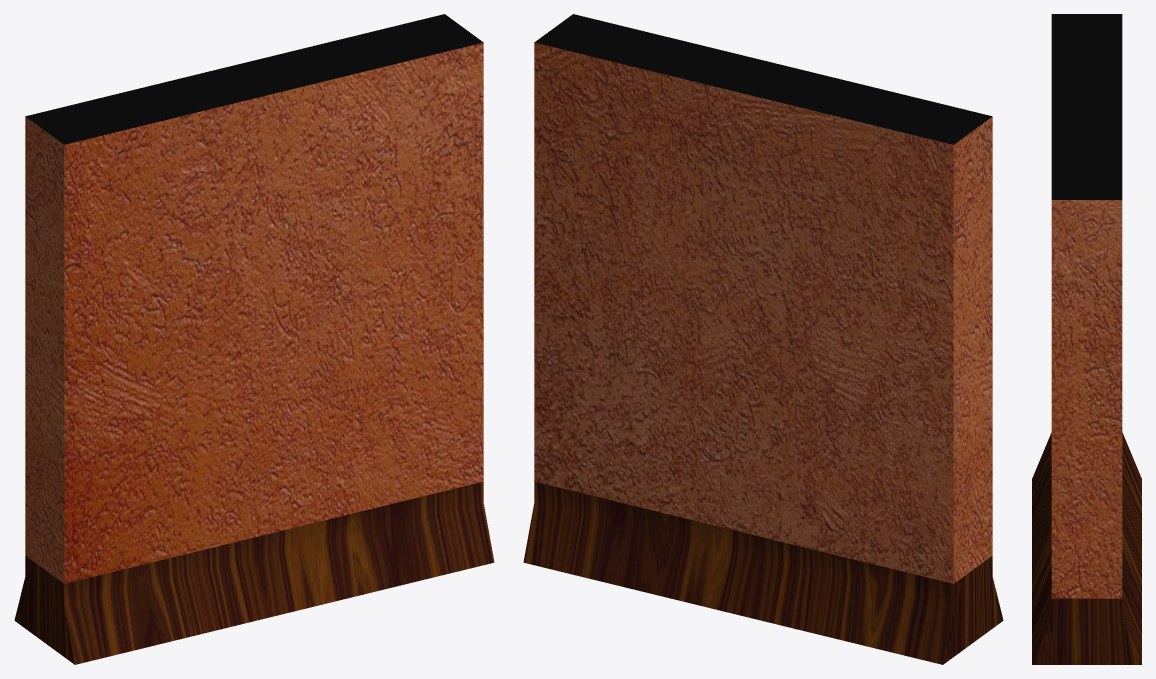
The model's file is Mansion_Interior_Walls.fbx.
The picture shows the model from 3 angles, left to right: view 1: azimuth 30°, elevation 25°; view 2: azimuth 150°, elevation 25°; view 3: azimuth 270°, elevation 25°; orthographic projection. The views are drawn at different scales.
Parts seen in each view (by area): view 1: pCube1; view 2: pCube1; view 3: pCube1.
Boxes of the visible parts, x1=… form: pCube1: x1=14, y1=14, x2=494, y2=664; pCube1: x1=523, y1=14, x2=1003, y2=664; pCube1: x1=1032, y1=14, x2=1141, y2=664.
Size of the model in its own units: 6 by 7 by 1.5.
5 materials, 3 textured.
